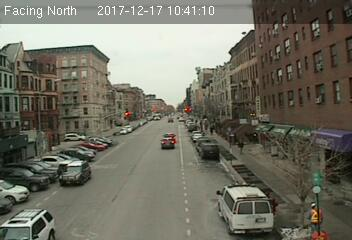car: (58, 160, 92, 186), (198, 142, 218, 158), (160, 136, 176, 151)
pedestrian: (309, 204, 324, 235)
police: (215, 181, 274, 235)
